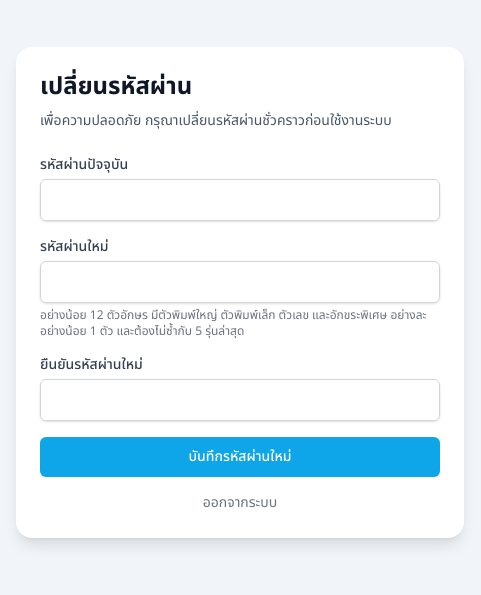
Scenario: ChangePasswordPage › keeps entered values visible when the backend rejects the password
Type "temporary-password" into the password field with id "current-password".
click(240, 200); type("temporary-password")  # box x1=40 y1=178 x2=440 y2=220
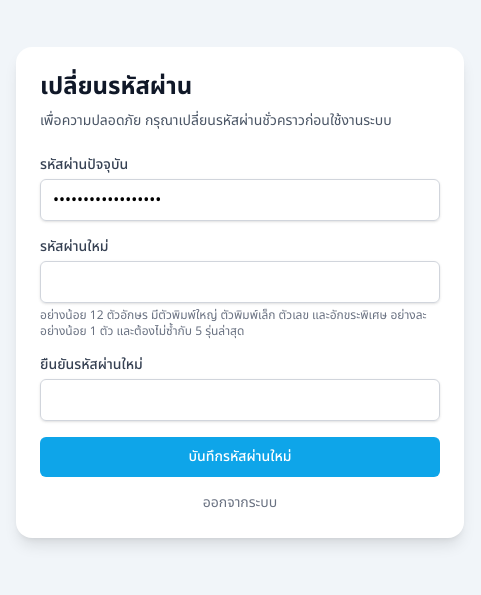
Type "N3w!SecurePass1" into the password field with id "new-password".
click(240, 282); type("N3w!SecurePass1")  # box x1=40 y1=260 x2=440 y2=302
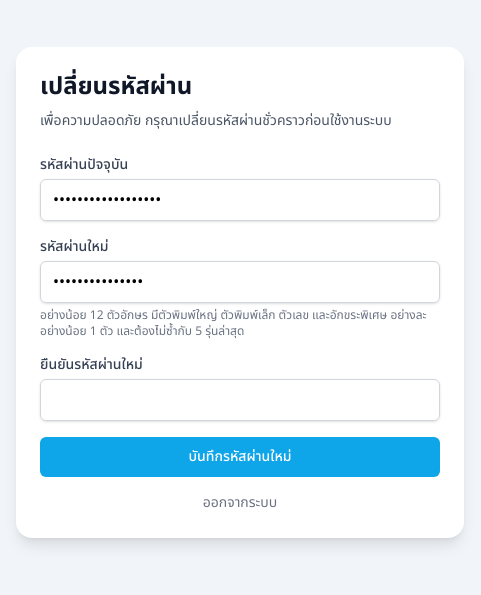
Type "N3w!SecurePass1" into the password field with id "confirm-password".
click(240, 400); type("N3w!SecurePass1")  # box x1=40 y1=378 x2=440 y2=420
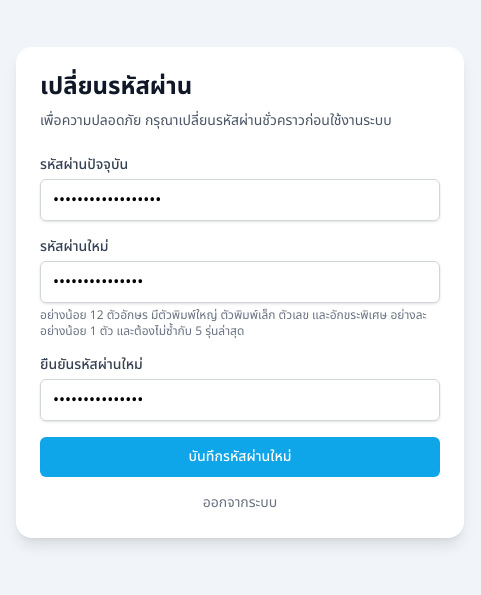
Submit the form, box x1=40 y1=154 x2=440 y2=476
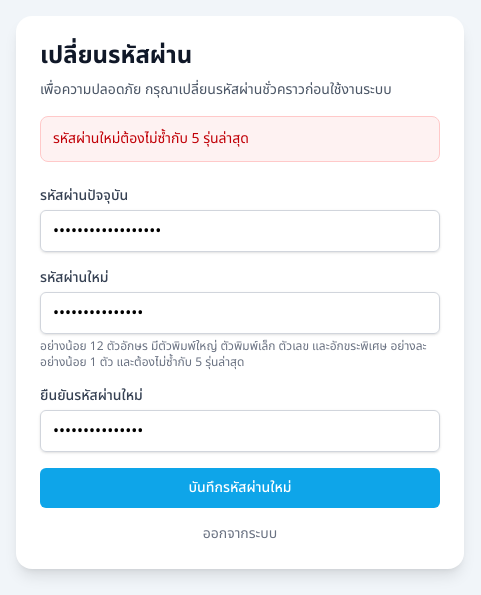
Now the message "รหัสผ่านใหม่ต้องไม่ซ้ำกับ 5 รุ่นล่าสุด" is shown, box x1=40 y1=116 x2=440 y2=162
